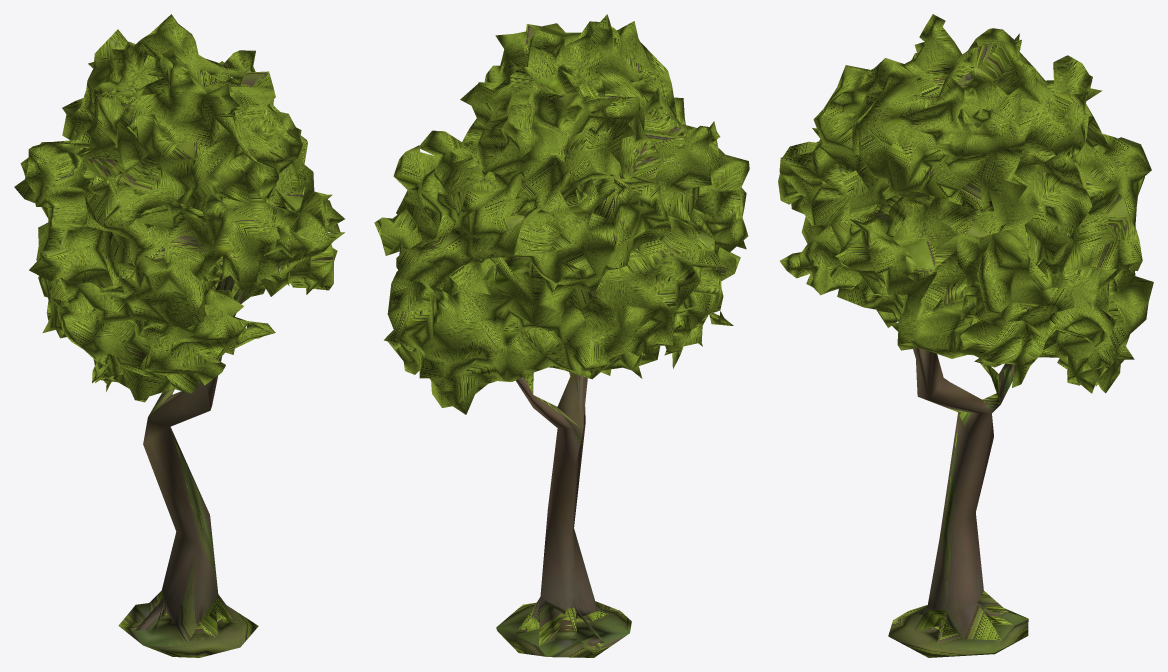
File: arvore_nova1_economica.glb
3 views of the same model, side by side, from view 1: azimuth 30°, elevation 25°; view 2: azimuth 150°, elevation 25°; view 3: azimuth 270°, elevation 25° (orthographic). The views are drawn at different scales.
Visible parts, largest first — view 1: mesh_0; view 2: mesh_0; view 3: mesh_0.
Boxes of the visible parts, x1,y1,x2,y2 form: mesh_0: [14, 14, 344, 657]; mesh_0: [374, 14, 749, 657]; mesh_0: [778, 14, 1153, 657].
Bounding box in the file's own units: 1.03 × 1.97 × 1.11.
1 material, 1 textured.
